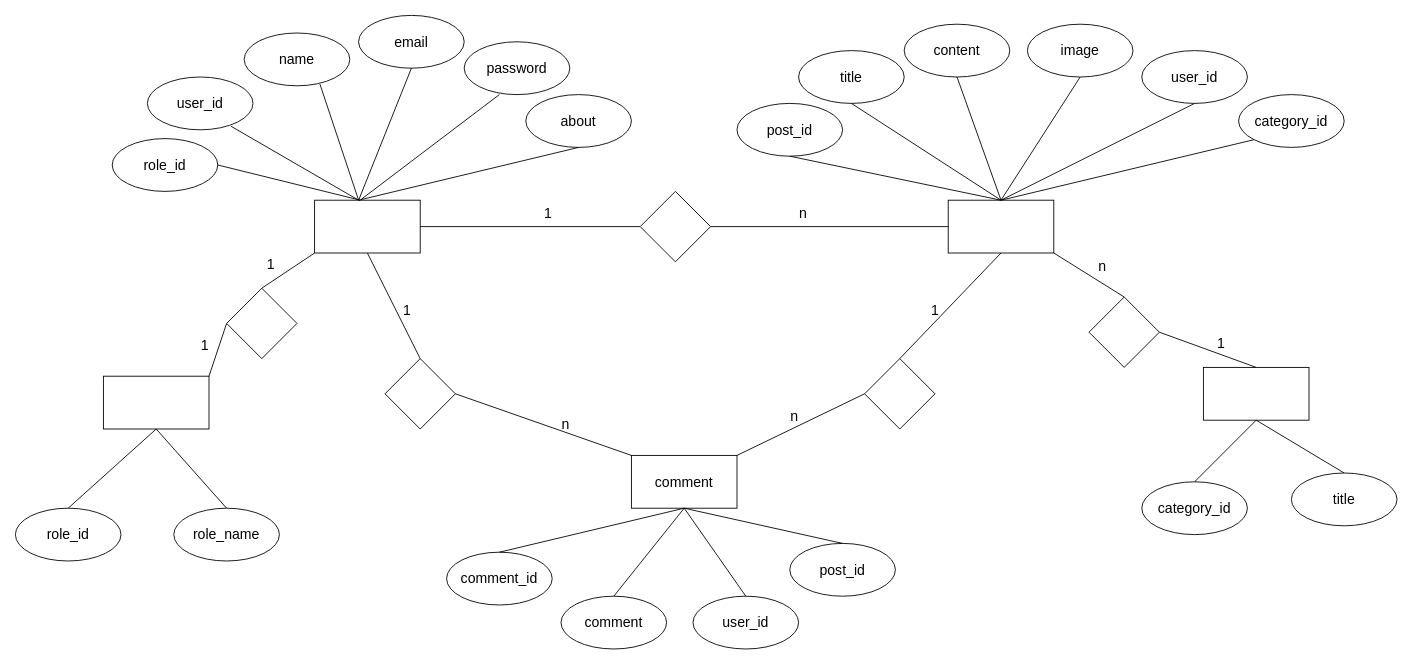
This 1412x664 diagram has some shape labels left out. Here are the shapes that lost their labels. From the top down, the centre of each, then its label:
point 367,226: User
point 1000,226: post
point 156,402: role
point 1256,393: category
